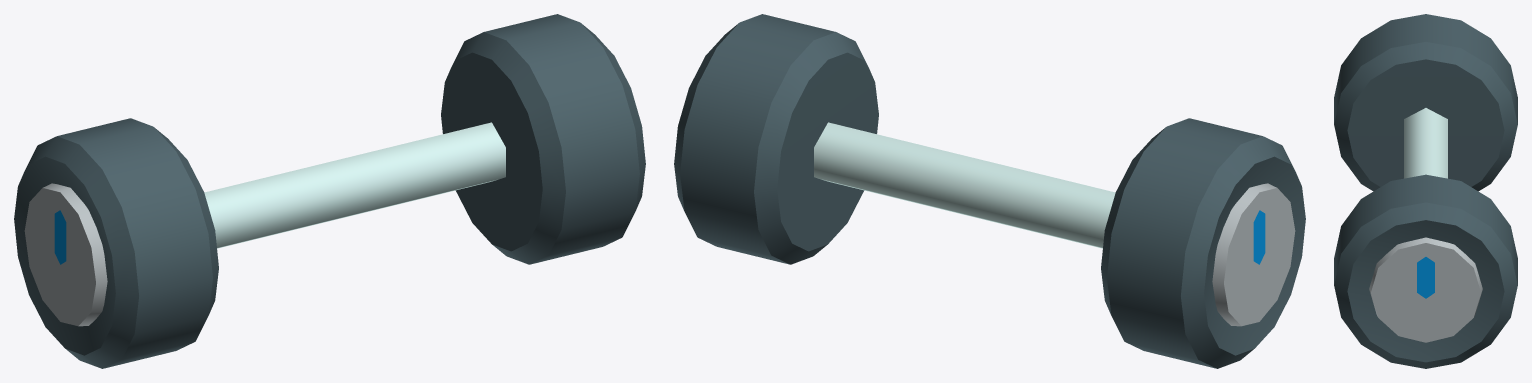
File: Delivery_drone_005_wheels_001.fbx
The picture shows the model from 3 angles, left to right: view 1: azimuth 30°, elevation 25°; view 2: azimuth 150°, elevation 25°; view 3: azimuth 270°, elevation 25°; orthographic projection. The views are drawn at different scales.
Parts seen in each view (by area): view 1: Delivery_drone_005_wheels_001; view 2: Delivery_drone_005_wheels_001; view 3: Delivery_drone_005_wheels_001.
Part boxes in pixels (bbox=[...]): Delivery_drone_005_wheels_001: bbox=[14, 14, 645, 368]; Delivery_drone_005_wheels_001: bbox=[674, 14, 1305, 368]; Delivery_drone_005_wheels_001: bbox=[1334, 14, 1517, 368].
Bounding box in the file's own units: 63.95 × 24.47 × 24.47.
